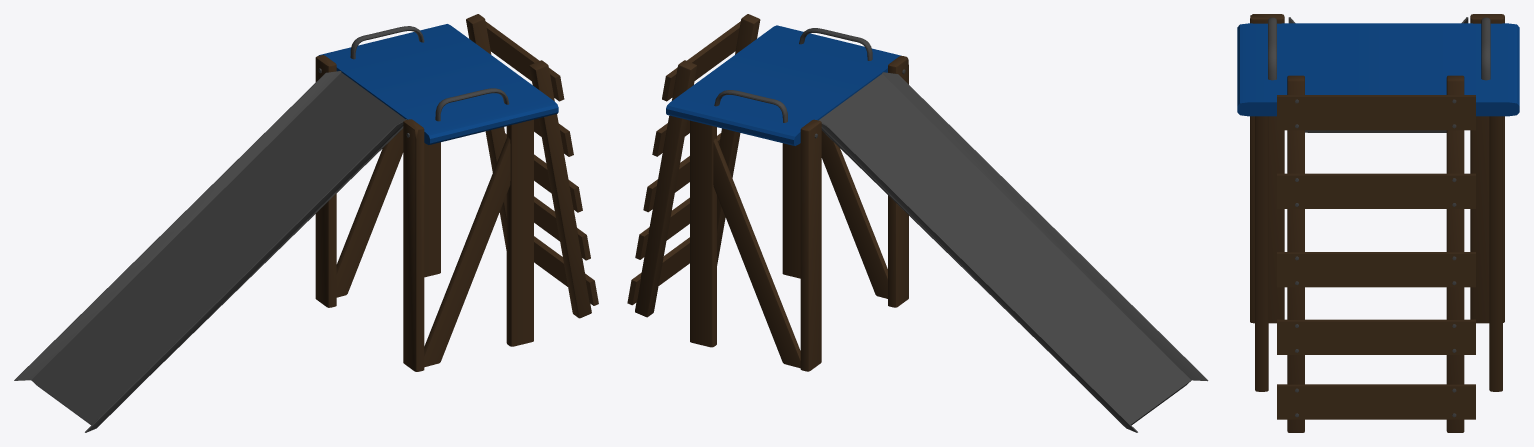
File: Tobogán.fbx
3 renders of one model, left to right at view 1: azimuth 30°, elevation 25°; view 2: azimuth 150°, elevation 25°; view 3: azimuth 270°, elevation 25°, orthographic. The views are drawn at different scales.
Parts seen in each view (by area): view 1: Tobogán; view 2: Tobogán; view 3: Tobogán.
Part boxes in pixels (x1,y1,x2,y2): Tobogán: (14, 14, 598, 432); Tobogán: (627, 14, 1208, 432); Tobogán: (1237, 14, 1519, 432).
Size of the model in its own units: 198 by 97.13 by 75.62.
